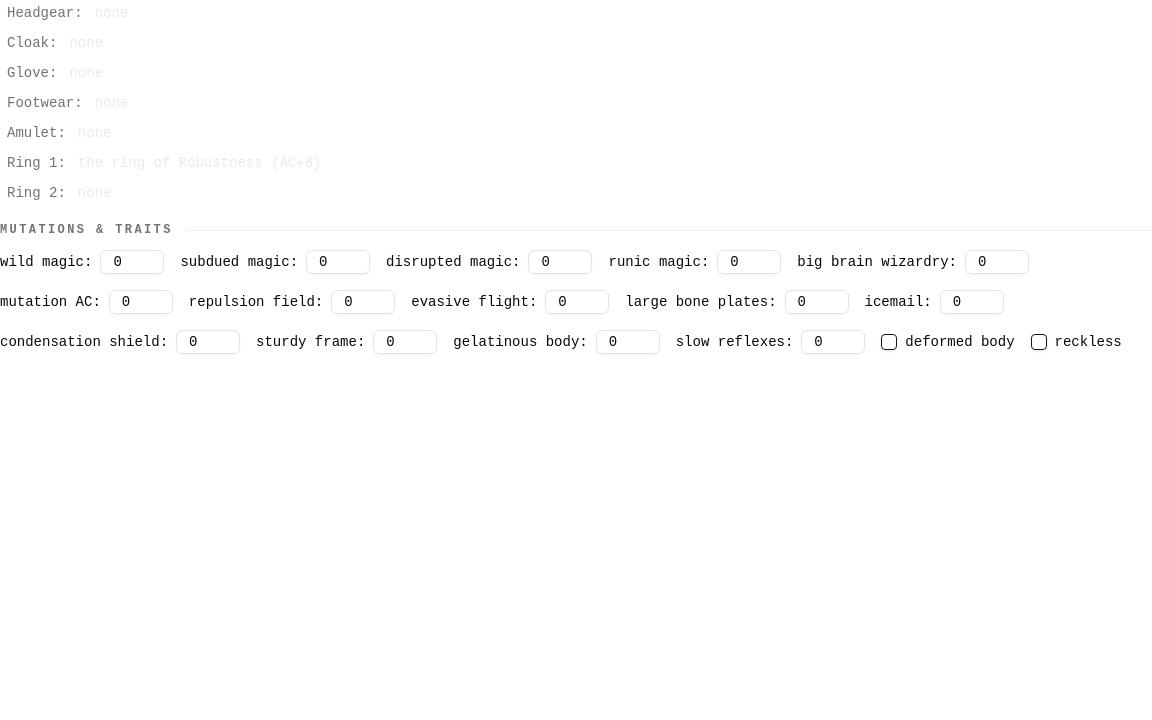
Test: DynamicEquipmentControls › renders equipment rows as plain text and opens a portal modal
Click the button with test id "equipment-row-ring-0".
click(32, 163)  # box [0, 150, 1151, 176]
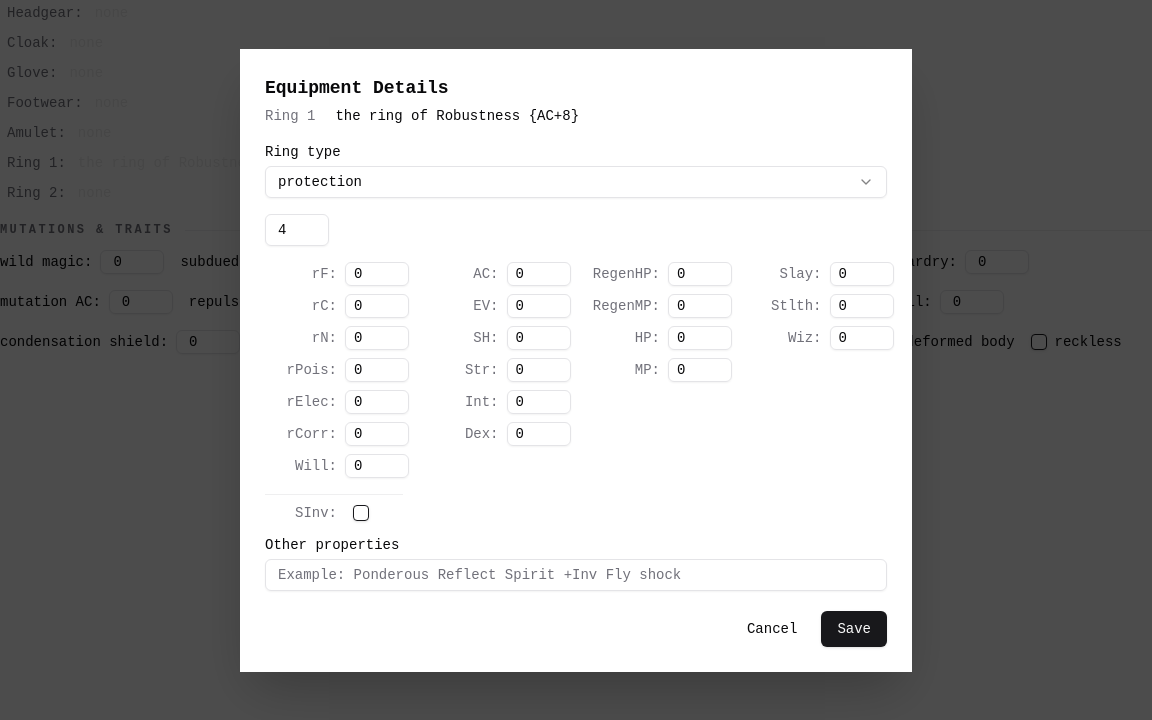
Expected: the text "Ring 1" is shown, [7, 155, 57, 171]
Now the dialog with test id "equipment-edit-modal" is shown
Now the text "Equipment Details" is shown, box [265, 78, 449, 98]
